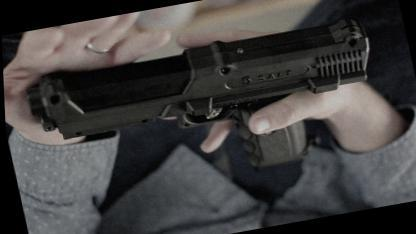pistol: (18, 11, 396, 208)
